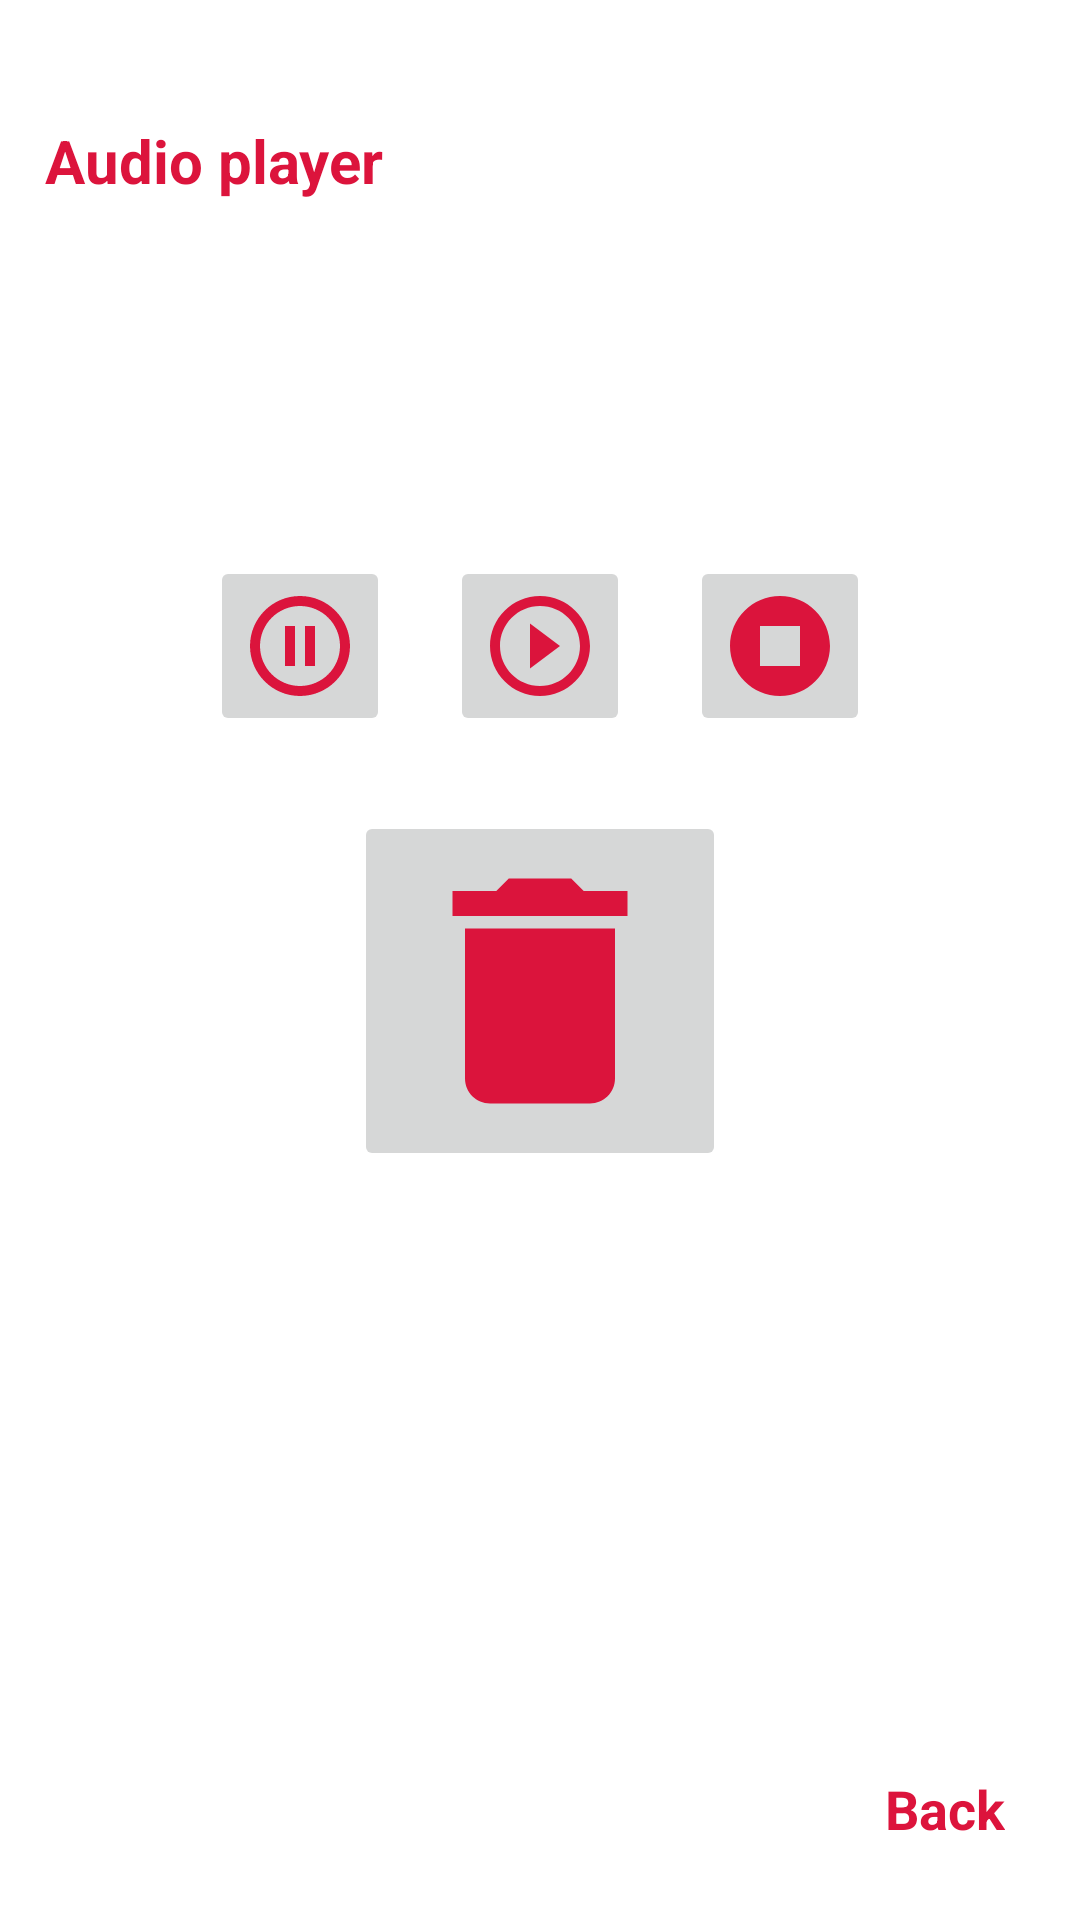

Point at icon controls on the screen. Image size 1080 × 1920, points as (x=x, y=y).
delete: (x=540, y=991)
pause circle: (x=300, y=646)
play circle: (x=540, y=646)
stop circle: (x=780, y=646)
